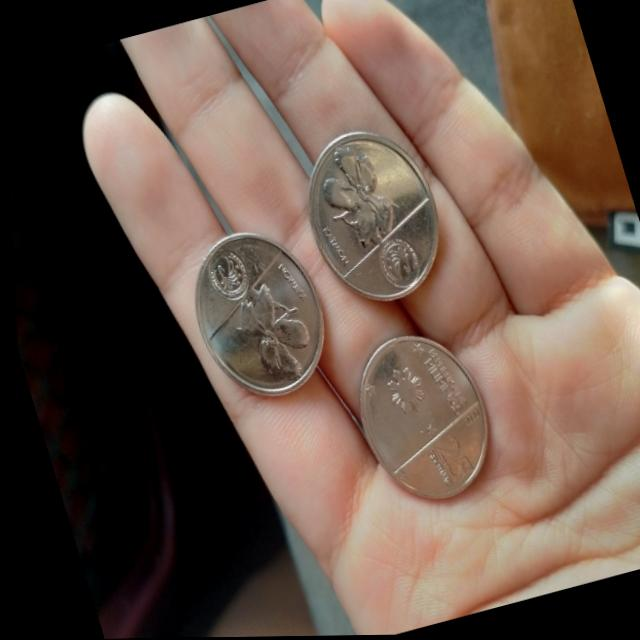25Cent_New_Back: (307, 134, 398, 256), (222, 277, 315, 391)
25Cent_New_Front: (411, 424, 478, 494)
